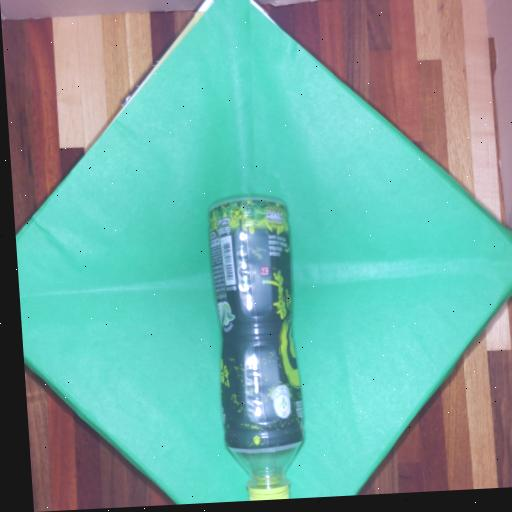bottle: (183, 173, 322, 503)
